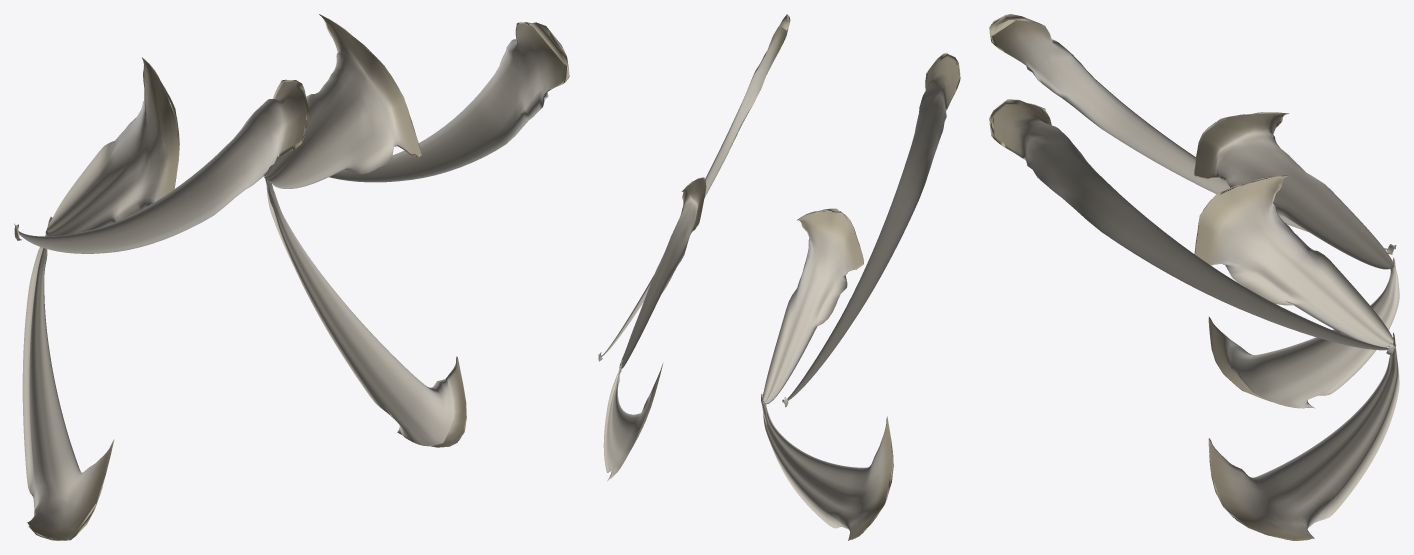
Rendered from elbow-ligaments-fiber.glb.
3 renders of one model, left to right at view 1: azimuth 30°, elevation 25°; view 2: azimuth 150°, elevation 25°; view 3: azimuth 270°, elevation 25°, orthographic. The views are drawn at different scales.
Visible parts, largest first — view 1: elbow_ucl_anterior_L, elbow_lucl_R, elbow_lucl_L, elbow_ucl_posterior_R, elbow_ucl_posterior_L, elbow_ucl_anterior_R; view 2: elbow_ucl_anterior_R, elbow_lucl_R, elbow_ucl_posterior_R, elbow_ucl_anterior_L, elbow_ucl_posterior_L, elbow_lucl_L; view 3: elbow_lucl_L, elbow_ucl_anterior_L, elbow_ucl_posterior_L, elbow_ucl_anterior_R, elbow_lucl_R, elbow_ucl_posterior_R.
Boxes of the visible parts, box(x1,y1,x2,y2) form: elbow_ucl_anterior_L: box(264, 14, 421, 188); elbow_lucl_R: box(14, 79, 308, 253); elbow_lucl_L: box(329, 22, 569, 182); elbow_ucl_posterior_R: box(22, 217, 114, 540); elbow_ucl_posterior_L: box(265, 178, 466, 447); elbow_ucl_anterior_R: box(45, 57, 179, 236); elbow_ucl_anterior_R: box(762, 208, 863, 404); elbow_lucl_R: box(782, 53, 960, 402); elbow_ucl_posterior_R: box(761, 394, 893, 540); elbow_ucl_anterior_L: box(619, 177, 706, 368); elbow_ucl_posterior_L: box(603, 359, 663, 481); elbow_lucl_L: box(598, 14, 790, 357); elbow_lucl_L: box(989, 99, 1395, 350); elbow_ucl_anterior_L: box(1194, 175, 1393, 347); elbow_ucl_posterior_L: box(1208, 332, 1399, 540); elbow_ucl_anterior_R: box(1194, 112, 1394, 269); elbow_lucl_R: box(989, 14, 1396, 250); elbow_ucl_posterior_R: box(1208, 257, 1399, 408).
Bounding box in the file's own units: 0.6687 × 0.9658 × 0.8593.
